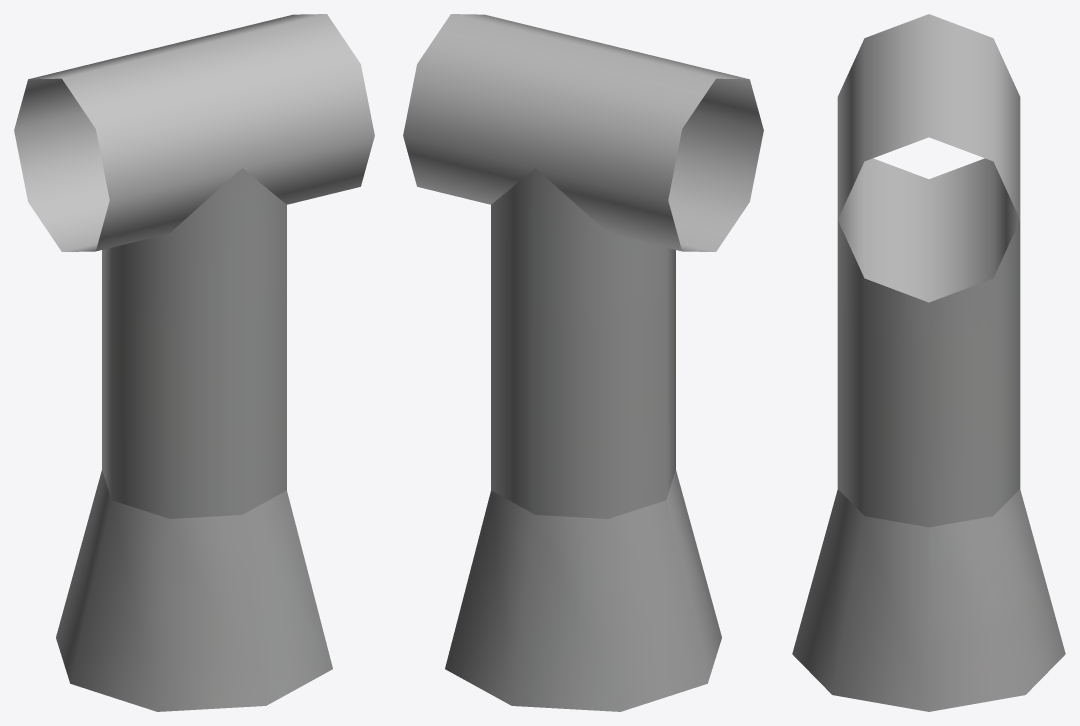
File: Eridani_Antenna_4_Arm1.obj
The picture shows the model from 3 angles, left to right: view 1: azimuth 30°, elevation 25°; view 2: azimuth 150°, elevation 25°; view 3: azimuth 270°, elevation 25°; orthographic projection. The views are drawn at different scales.
Parts seen in each view (by area): view 1: Eridani_Antenna_4_Arm1; view 2: Eridani_Antenna_4_Arm1; view 3: Eridani_Antenna_4_Arm1.
Boxes of the visible parts, box(x1,y1,x2,y2) form: Eridani_Antenna_4_Arm1: box(14, 14, 374, 711); Eridani_Antenna_4_Arm1: box(403, 14, 763, 711); Eridani_Antenna_4_Arm1: box(792, 14, 1065, 711).
Size of the model in its own units: 0.1 by 0.2188 by 0.0938.
